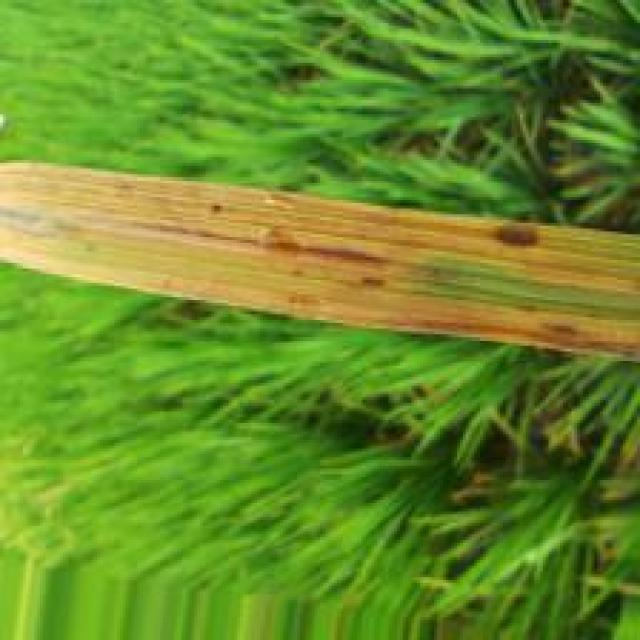Leaf_Blast: (69, 208, 401, 271), (381, 295, 640, 358), (490, 219, 546, 250)
